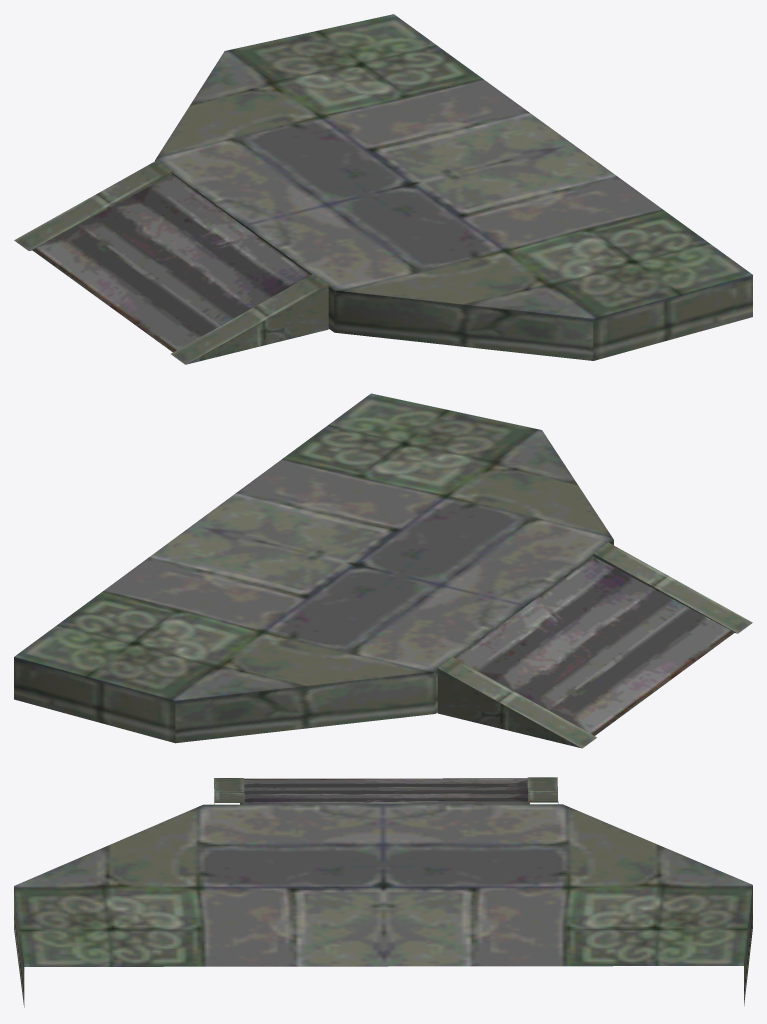
File: h5_baozu_02.FBX
3 renders of one model, top to bottom at view 1: azimuth 30°, elevation 25°; view 2: azimuth 150°, elevation 25°; view 3: azimuth 270°, elevation 25°, orthographic.
Visible parts, largest first — view 1: h5_baozu_02; view 2: h5_baozu_02; view 3: h5_baozu_02.
Boxes of the visible parts, <box> form: h5_baozu_02: <box>14,14,752,364</box>; h5_baozu_02: <box>14,393,752,748</box>; h5_baozu_02: <box>14,777,752,1007</box>.
Size of the model in its own units: 10.61 by 0.9635 by 14.2.
